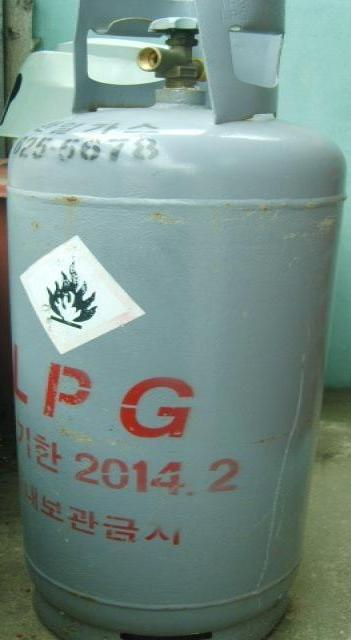cylinder: (1, 0, 351, 640)
